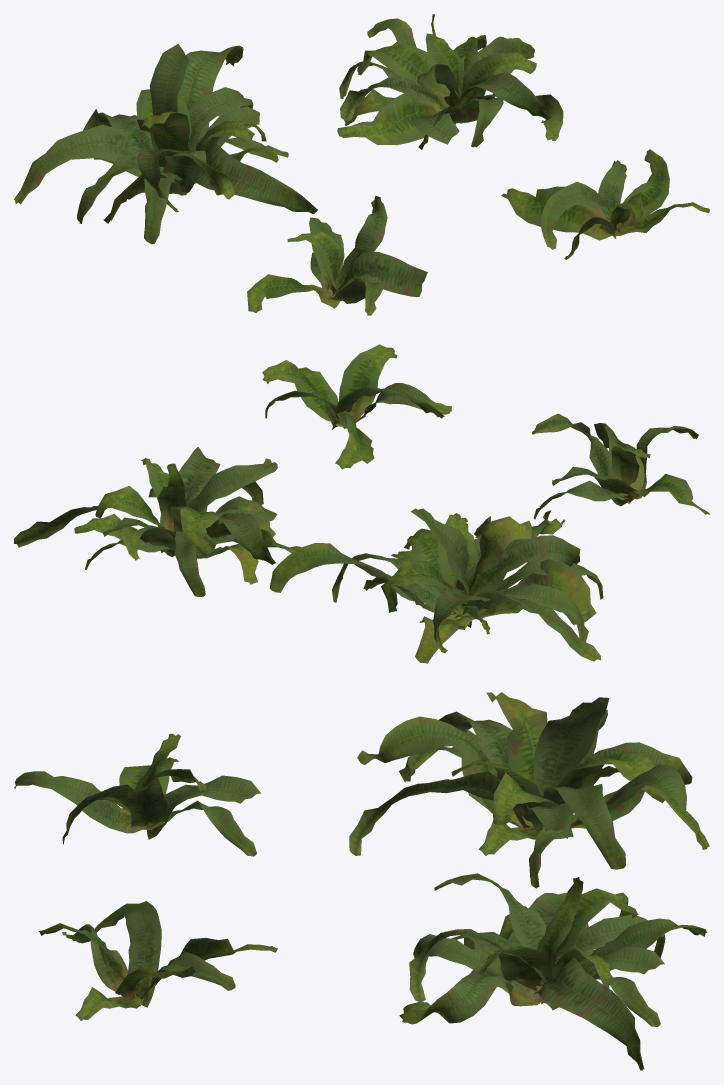
File: fern.glb
3 renders of one model, top to bottom at view 1: azimuth 30°, elevation 25°; view 2: azimuth 150°, elevation 25°; view 3: azimuth 270°, elevation 25°, orthographic. The views are drawn at different scales.
Parts seen in each view (by area): view 1: fern_02_b; view 2: fern_02_b; view 3: fern_02_b.
Part boxes in pixels (left/top/right/bottom): fern_02_b: left=14, top=14, right=709, bottom=315; fern_02_b: left=14, top=344, right=709, bottom=663; fern_02_b: left=14, top=692, right=709, bottom=1070.
Size of the model in its own units: 1.97 by 0.4277 by 1.72.
1 material, 1 textured.
